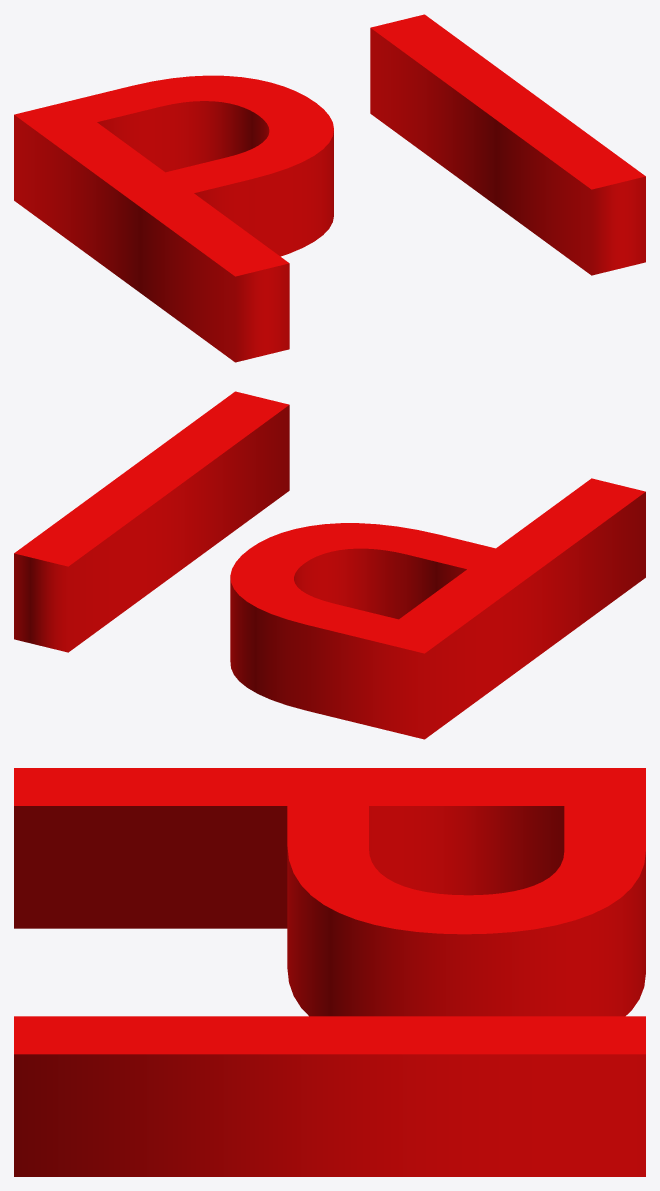
The model's file is player1.fbx.
3 views of the same model, one above another, from view 1: azimuth 30°, elevation 25°; view 2: azimuth 150°, elevation 25°; view 3: azimuth 270°, elevation 25° (orthographic). The views are drawn at different scales.
Visible parts, largest first — view 1: Text; view 2: Text; view 3: Text.
Part boxes in pixels (left/top/right/bottom): Text: left=14, top=14, right=645, bottom=362; Text: left=14, top=391, right=645, bottom=739; Text: left=14, top=768, right=645, bottom=1176.
Bounding box in the file's own units: 1.5 × 0.3 × 1.4.
